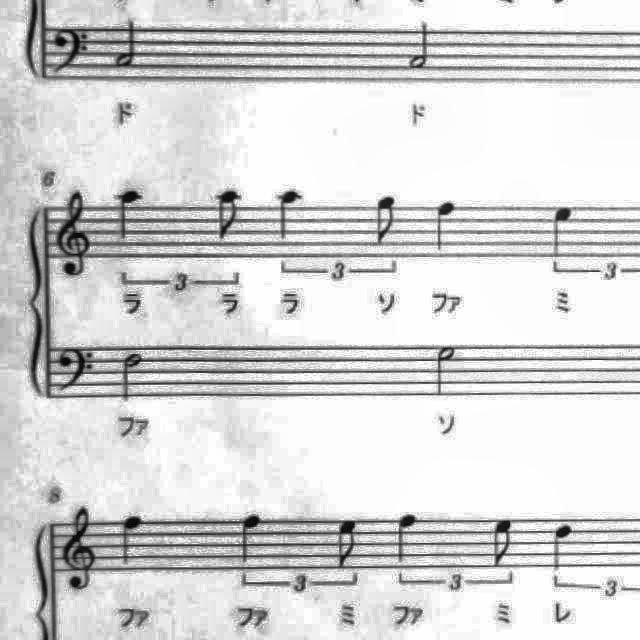Bass-clef: (48, 22, 96, 82), (54, 340, 102, 400)
Eighth-note: (209, 183, 247, 244), (365, 190, 403, 250), (330, 511, 366, 571), (487, 512, 521, 570)
Half-note: (115, 346, 151, 406), (430, 338, 464, 400), (110, 17, 146, 75), (404, 19, 440, 77)
Quarter-note: (544, 202, 582, 270), (427, 194, 465, 258), (112, 183, 150, 247), (270, 182, 308, 244), (233, 506, 267, 570), (114, 510, 150, 570), (544, 518, 580, 576), (392, 508, 424, 566)
Treble-clef: (50, 184, 100, 280), (56, 500, 104, 596)
